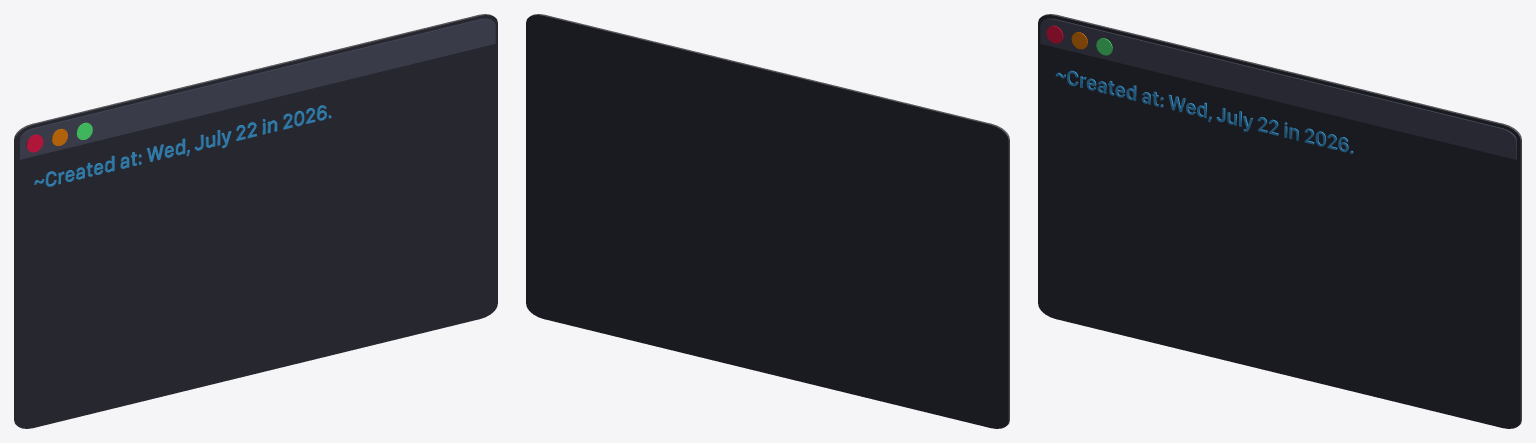
File: terminalwtxt.glb
3 renders of one model, left to right at view 1: azimuth 30°, elevation 25°; view 2: azimuth 150°, elevation 25°; view 3: azimuth 330°, elevation 25°, orthographic.
Visible parts, largest first — view 1: Plane, Text; view 2: Plane; view 3: Plane, Text.
Boxes of the visible parts, x1,y1,x2,y2 form: Plane: (14,14,497,428); Text: (34,105,331,186); Plane: (526,14,1009,428); Plane: (1038,14,1521,428); Text: (1055,70,1353,153).
Bounding box in the file's own units: 2.37 × 1.42 × 0.0256.
